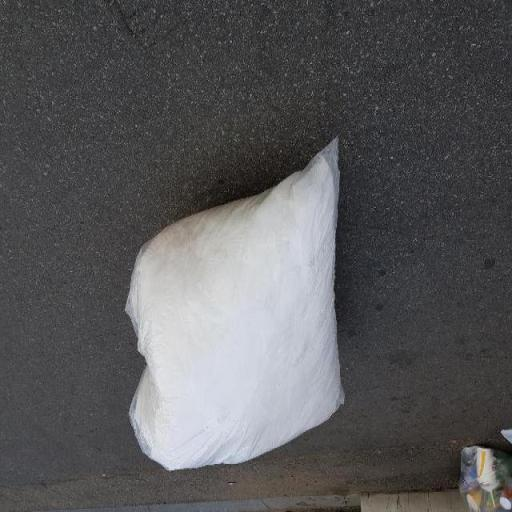plastic-bag: (124, 130, 348, 478)
